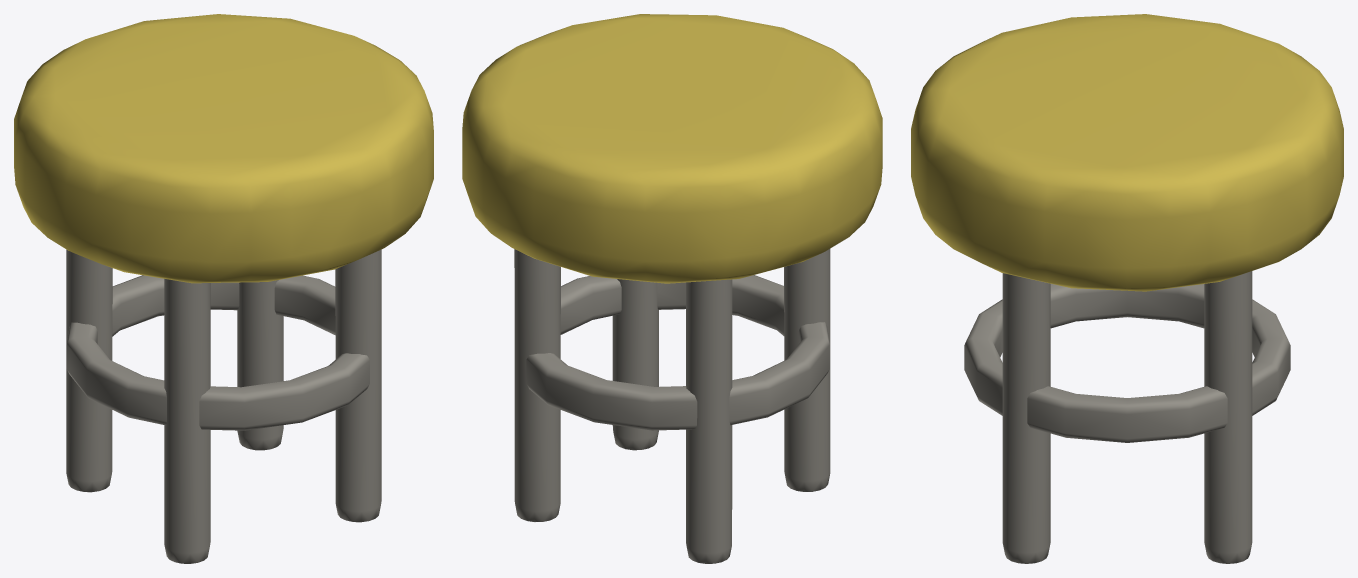
The model's file is stool_08_yellow.fbx.
3 views of the same model, side by side, from view 1: azimuth 30°, elevation 25°; view 2: azimuth 150°, elevation 25°; view 3: azimuth 270°, elevation 25° (orthographic). The views are drawn at different scales.
Visible parts, largest first — view 1: stool_08_yellow; view 2: stool_08_yellow; view 3: stool_08_yellow.
Part boxes in pixels (bbox=[...]): stool_08_yellow: bbox=[14, 14, 433, 563]; stool_08_yellow: bbox=[462, 14, 882, 563]; stool_08_yellow: bbox=[911, 14, 1343, 563].
Size of the model in its own units: 39.67 by 42.64 by 39.67.
Materials: 2 (2 with a texture image).
